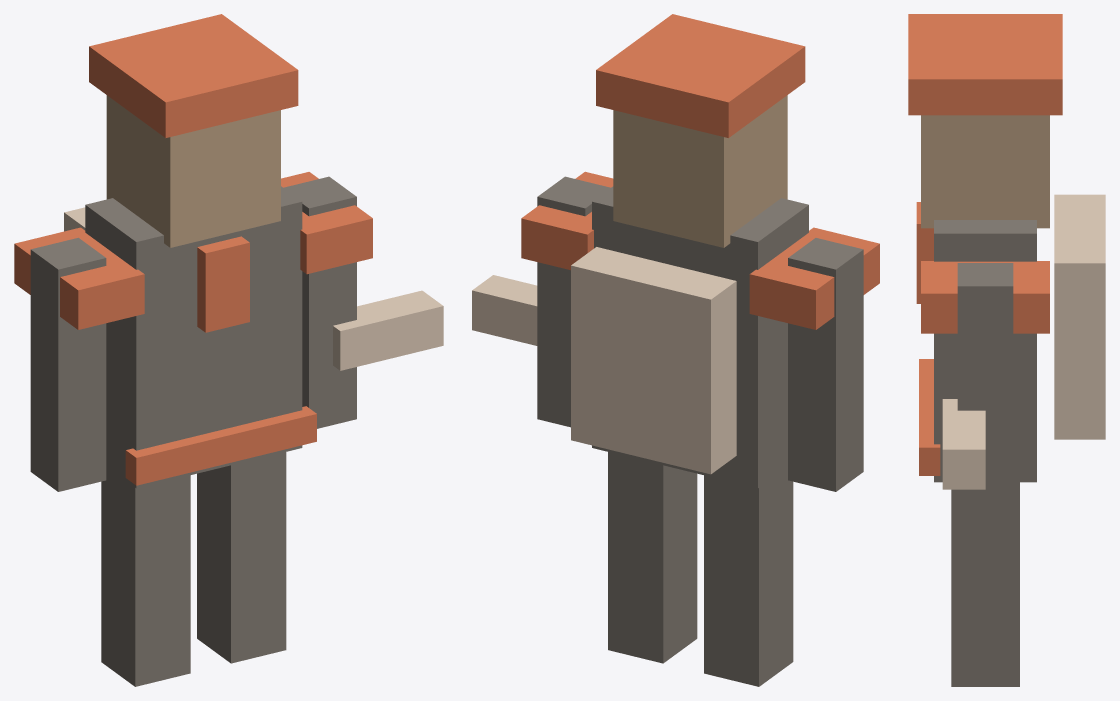
The model's file is 10_thorne_tideforged_runner_of_dry.glb.
3 renders of one model, left to right at view 1: azimuth 30°, elevation 25°; view 2: azimuth 150°, elevation 25°; view 3: azimuth 270°, elevation 25°, orthographic.
Visible parts, largest first — view 1: Thorne Tideforged, Runner of Dry; view 2: Thorne Tideforged, Runner of Dry; view 3: Thorne Tideforged, Runner of Dry.
Boxes of the visible parts, <box> form: Thorne Tideforged, Runner of Dry: <box>14,14,443,686</box>; Thorne Tideforged, Runner of Dry: <box>472,14,879,686</box>; Thorne Tideforged, Runner of Dry: <box>908,14,1105,686</box>.
Size of the model in its own units: 1.01 by 1.52 by 0.4518.
